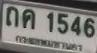letters: (6, 6, 19, 27), (22, 9, 35, 29), (83, 18, 95, 37), (70, 16, 81, 36), (58, 13, 68, 34), (47, 12, 54, 33)
province: (15, 36, 82, 51)
